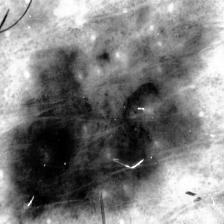Benign Marking or Mole: (0, 6, 204, 224)
